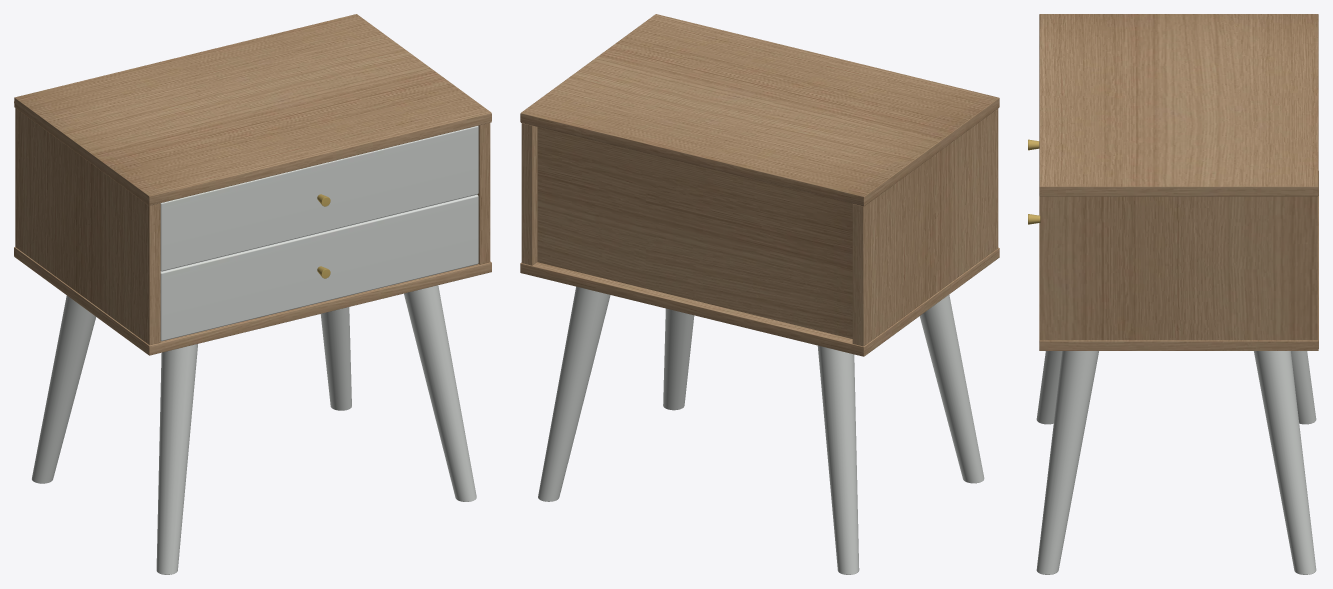
File: B07QD6TXWS.glb
The picture shows the model from 3 angles, left to right: view 1: azimuth 30°, elevation 25°; view 2: azimuth 150°, elevation 25°; view 3: azimuth 270°, elevation 25°; orthographic projection. The views are drawn at different scales.
Visible parts, largest first — view 1: RootNode; view 2: RootNode; view 3: RootNode.
Part boxes in pixels (x1=…): RootNode: x1=14, y1=14, x2=491, y2=574; RootNode: x1=520, y1=14, x2=999, y2=574; RootNode: x1=1028, y1=14, x2=1318, y2=574.
Bounding box in the file's own units: 0.5714 × 0.6096 × 0.4068.
Materials: 1 (1 with a texture image).
